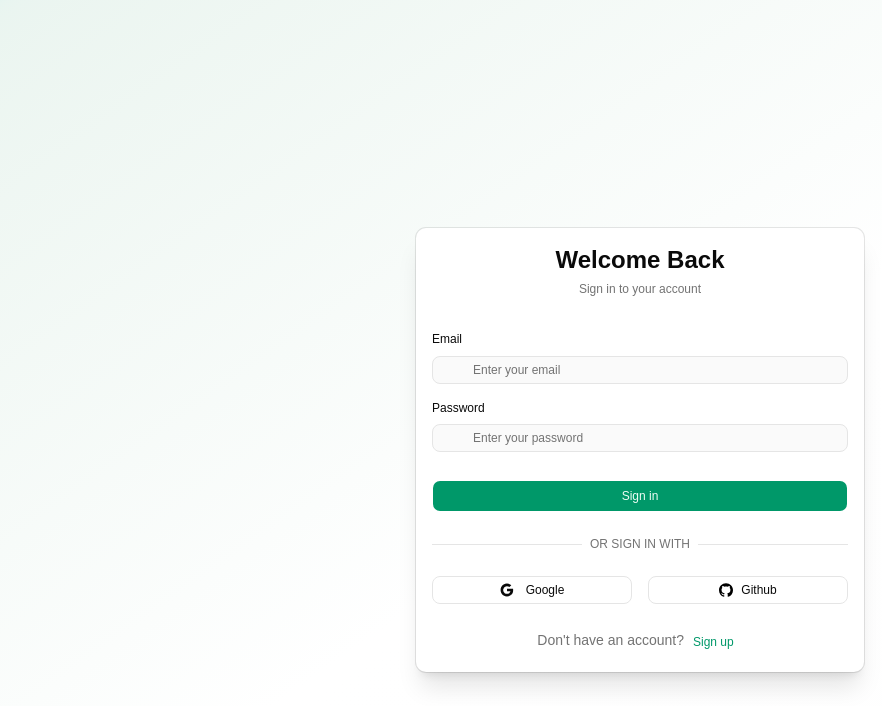
Test case: LoginPage › form submission › disables submit button while submitting
Step 1. Type "reda@example.com" into the field labelled "Email" → (640, 370), box [432,356,848,384]
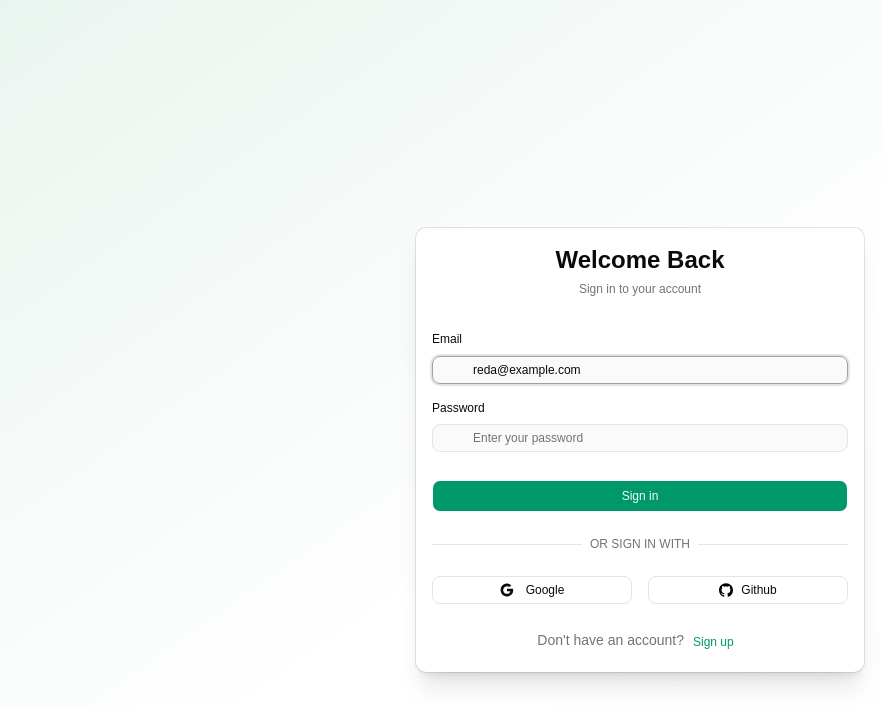
Step 2. Type "Password123!" into the password field labelled "Password" → (640, 438), box [432,424,848,452]
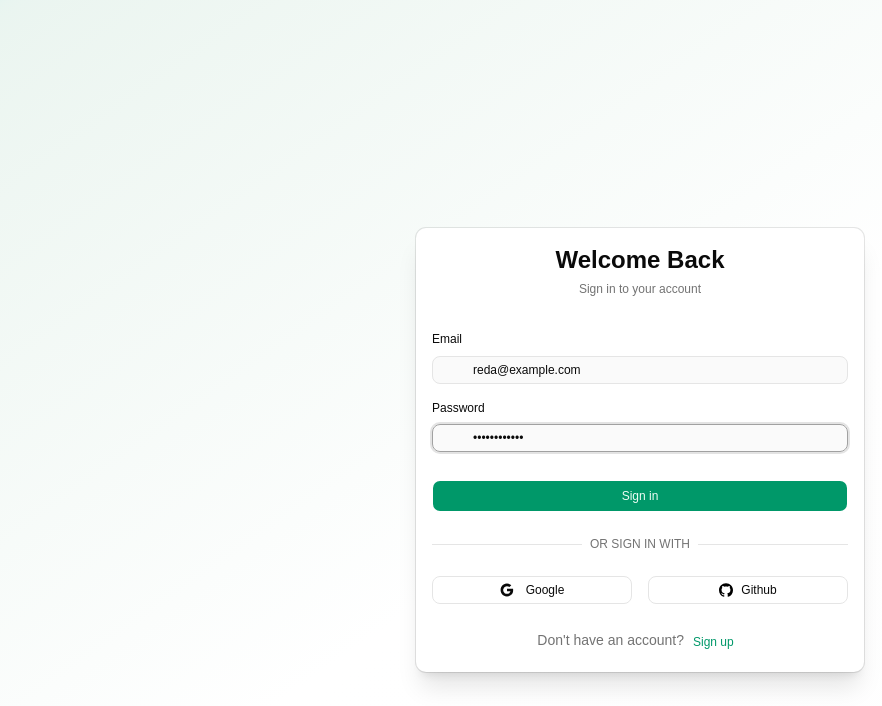
Step 3. Click the button "Sign in" → click(640, 496), box [432,480,848,512]
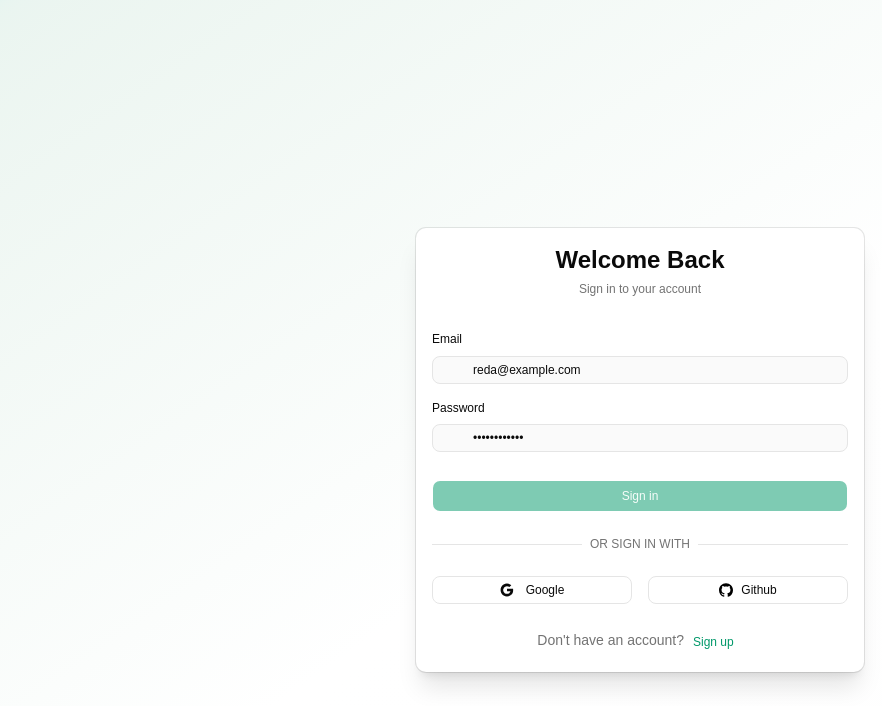
Now the button "Sign in" is disabled, box [432,480,848,512]
